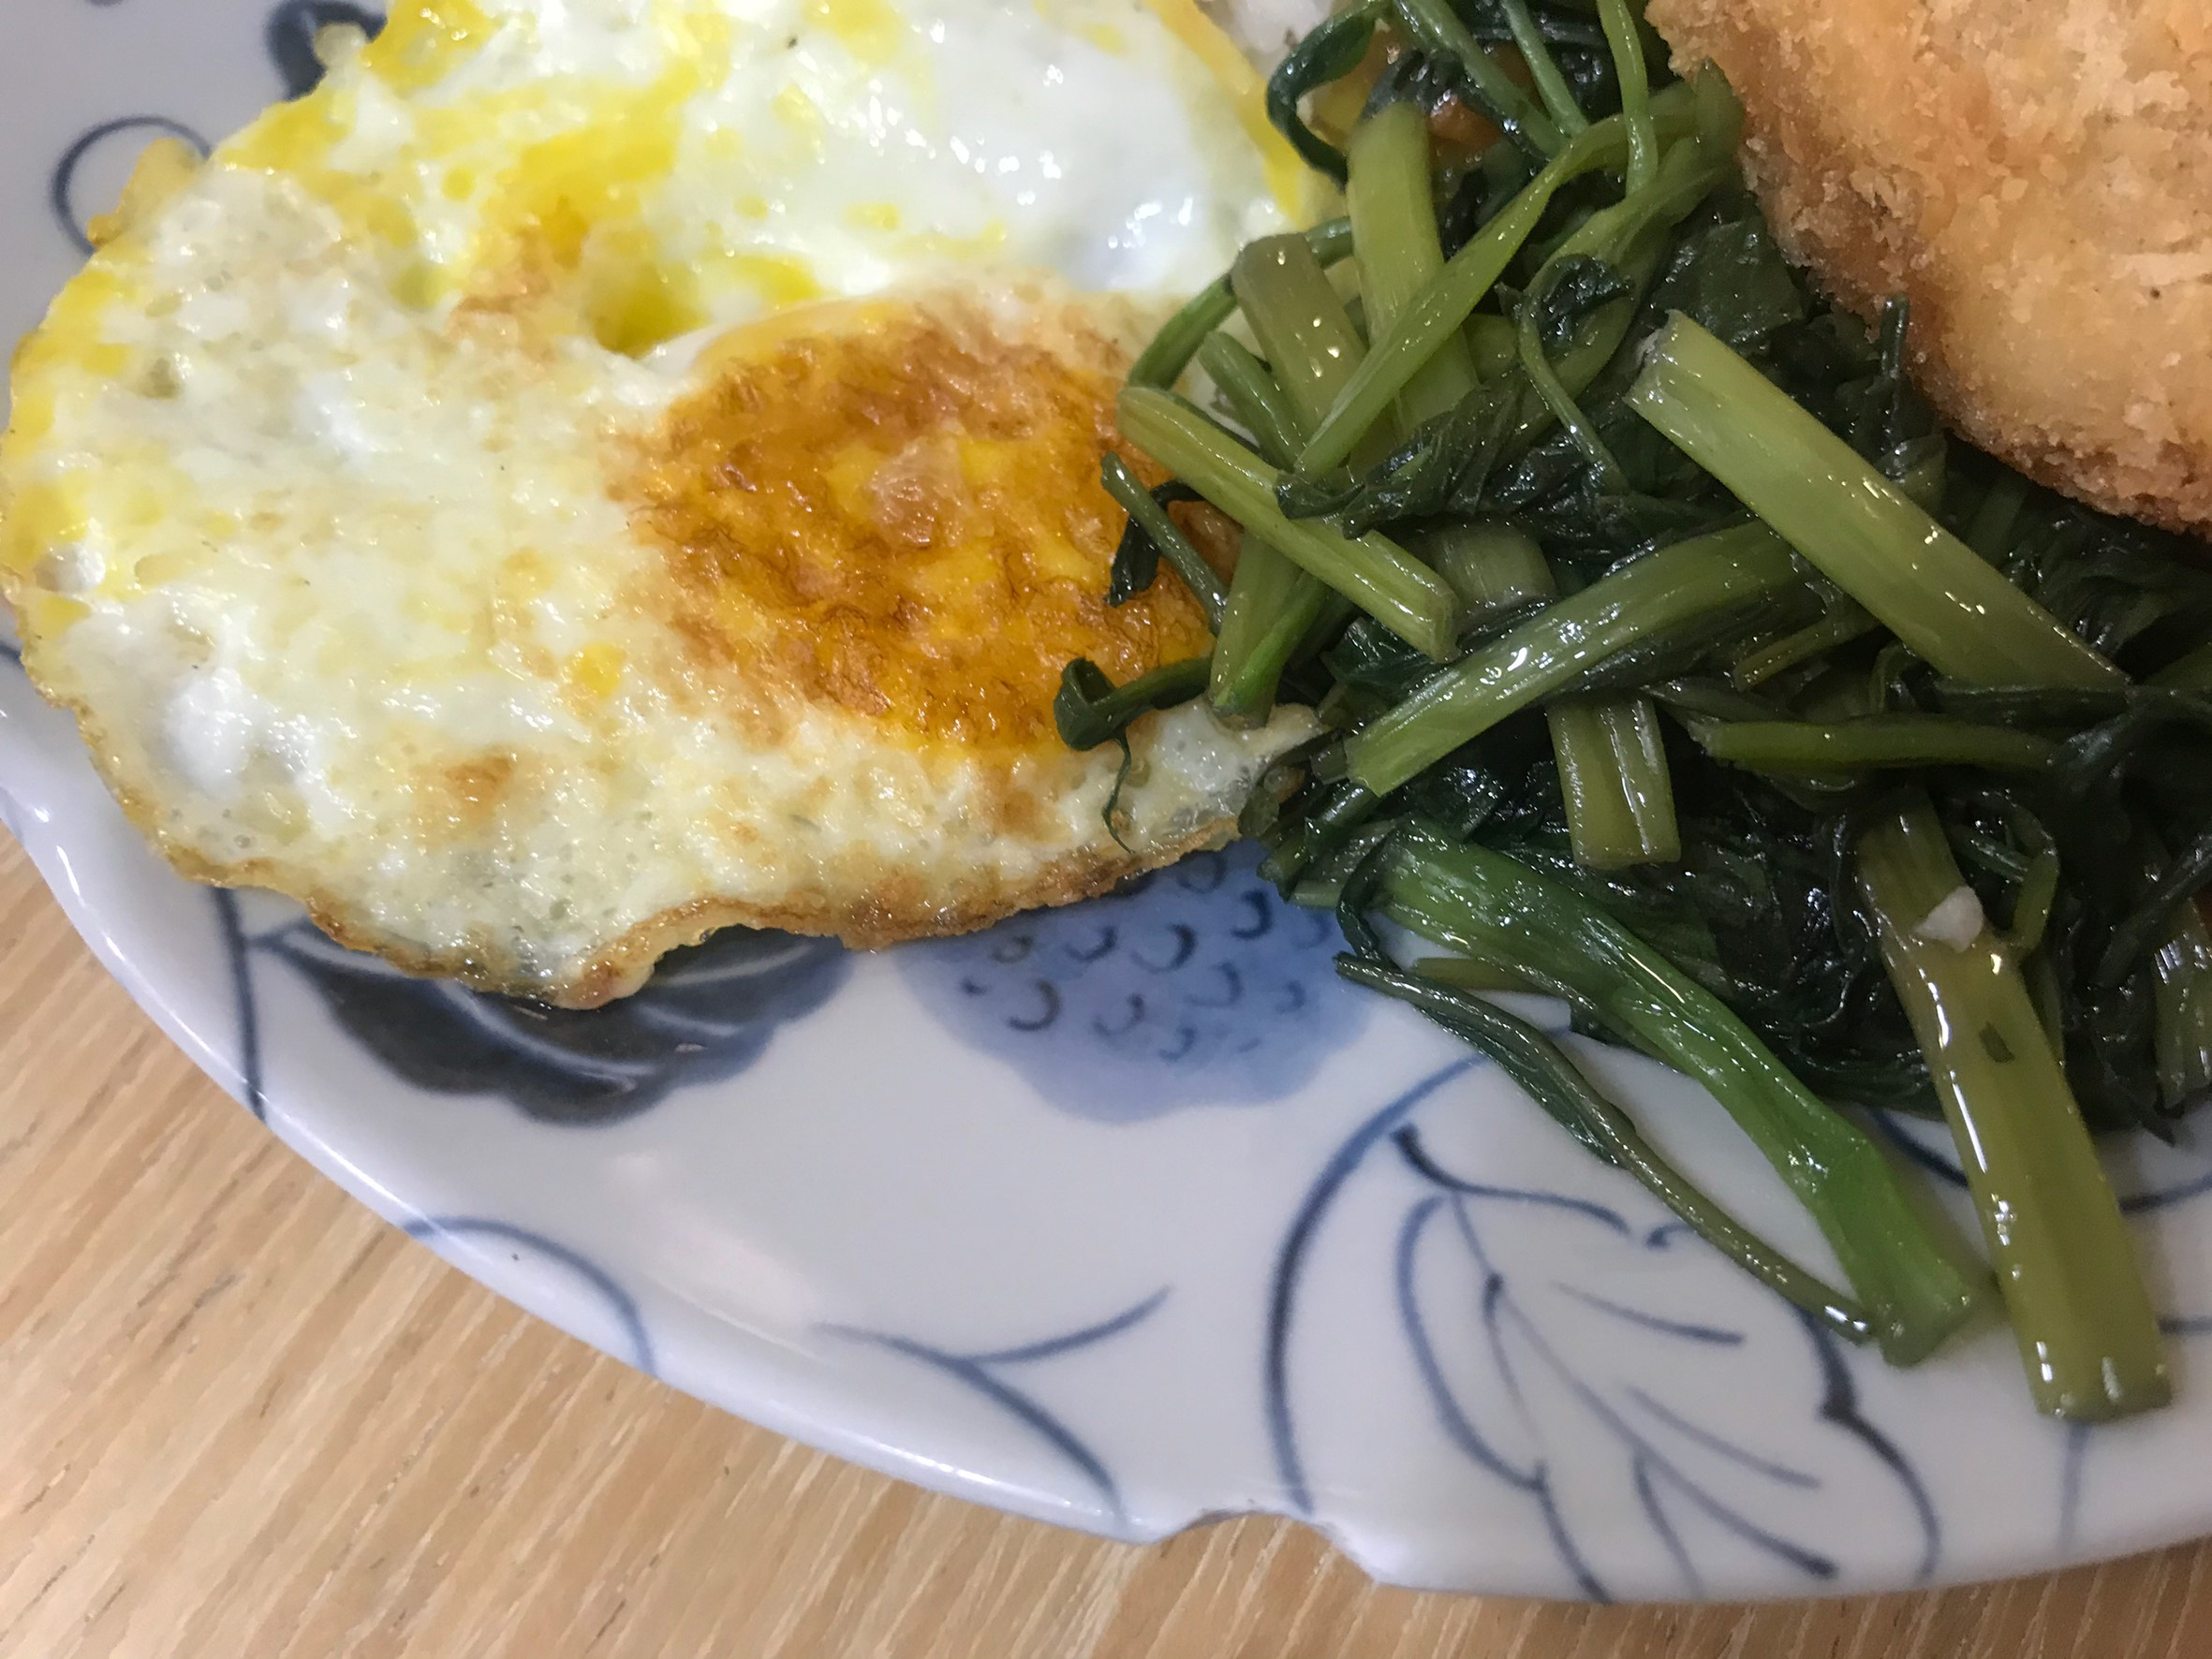fried_eggs: (2, 2, 1276, 1019)
water_spinach: (1313, 2, 2212, 1190)
